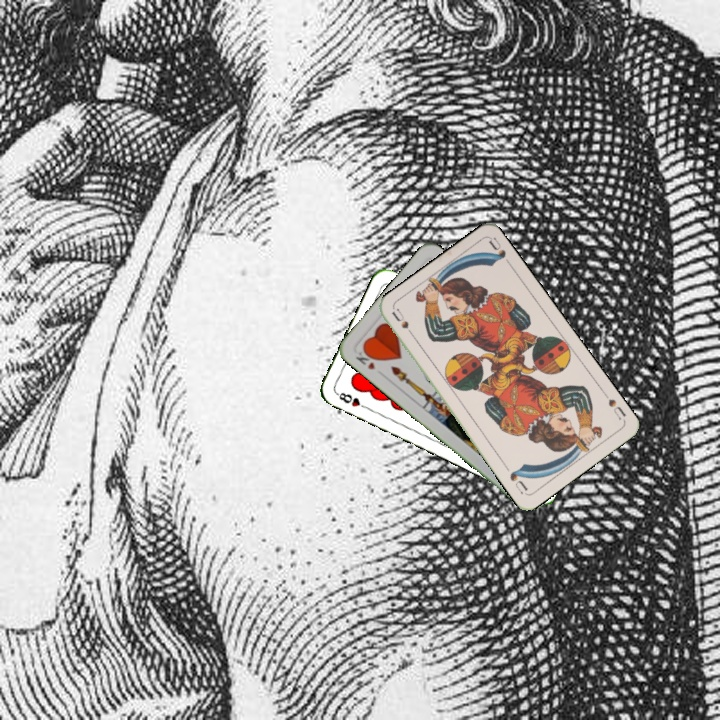H8: (332, 388, 371, 412)
HK: (352, 343, 379, 372)
SU: (387, 305, 418, 342), (604, 395, 629, 422)
